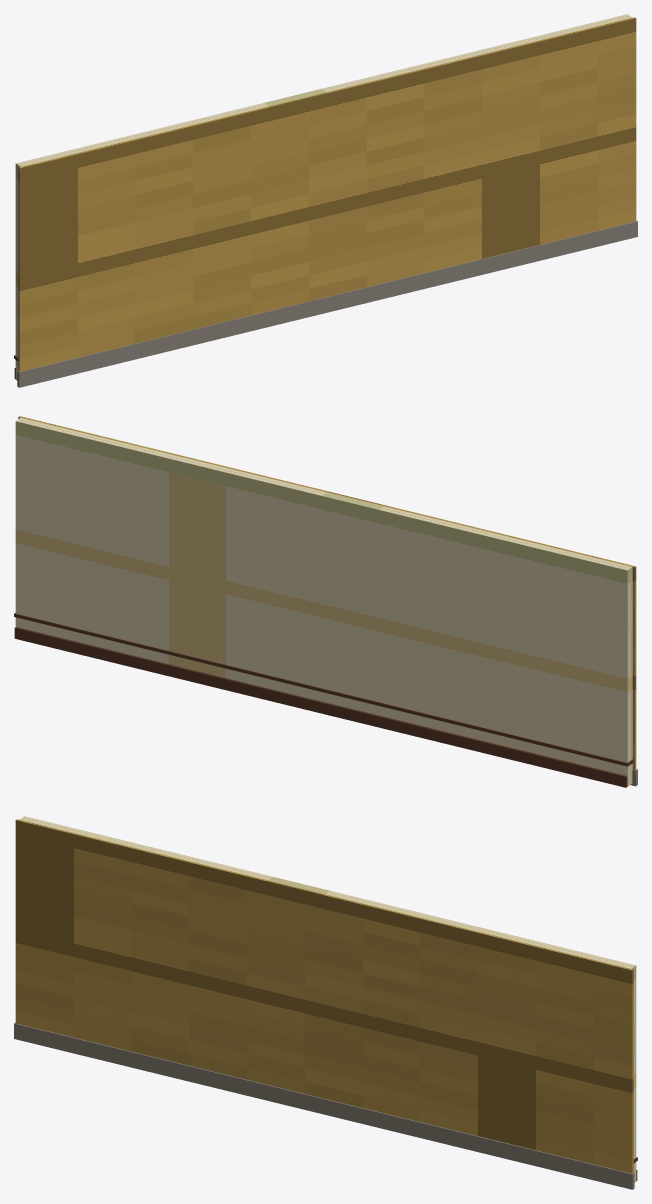
The model's file is back.glb.
3 renders of one model, top to bottom at view 1: azimuth 30°, elevation 25°; view 2: azimuth 150°, elevation 25°; view 3: azimuth 330°, elevation 25°, orthographic.
Visible parts, largest first — view 1: Box3, Box4, Box1; view 2: Box1, Box2, Box5, Box6, Box3; view 3: Box3, Box4, Box1.
Boxes of the visible parts, x1=… form: Box3: x1=18, y1=17, x2=636, y2=371; Box4: x1=17, y1=220, x2=637, y2=387; Box1: x1=15, y1=14, x2=632, y2=380; Box1: x1=15, y1=417, x2=632, y2=786; Box2: x1=14, y1=627, x2=627, y2=787; Box5: x1=15, y1=617, x2=632, y2=785; Box6: x1=14, y1=613, x2=633, y2=766; Box3: x1=18, y1=416, x2=636, y2=770; Box3: x1=15, y1=819, x2=633, y2=1173; Box4: x1=14, y1=1022, x2=634, y2=1189; Box1: x1=19, y1=816, x2=636, y2=1182.
Bounding box in the file's own units: 10.77 × 3.64 × 0.25.
Materials: 4 (2 with a texture image).
